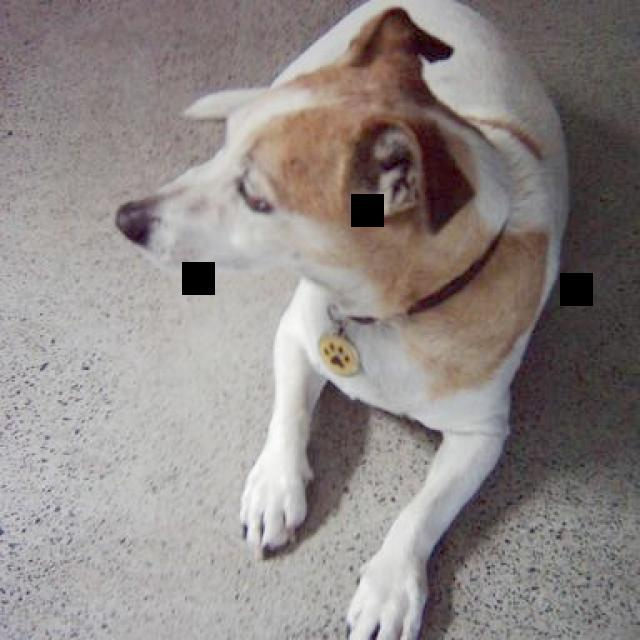adult_dog: (117, 4, 570, 640)
